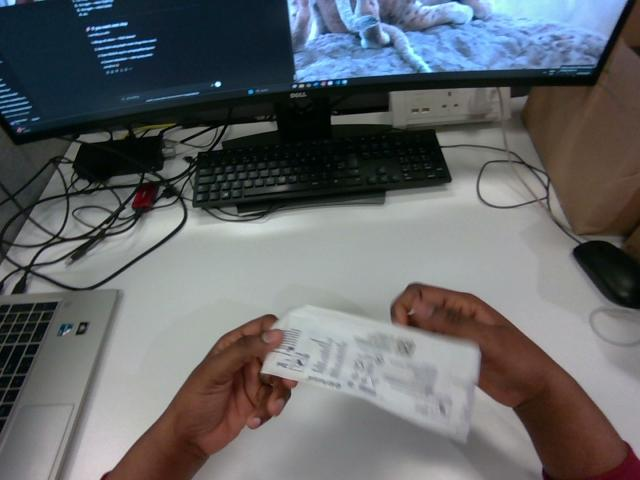syringe: (261, 306, 480, 441)
